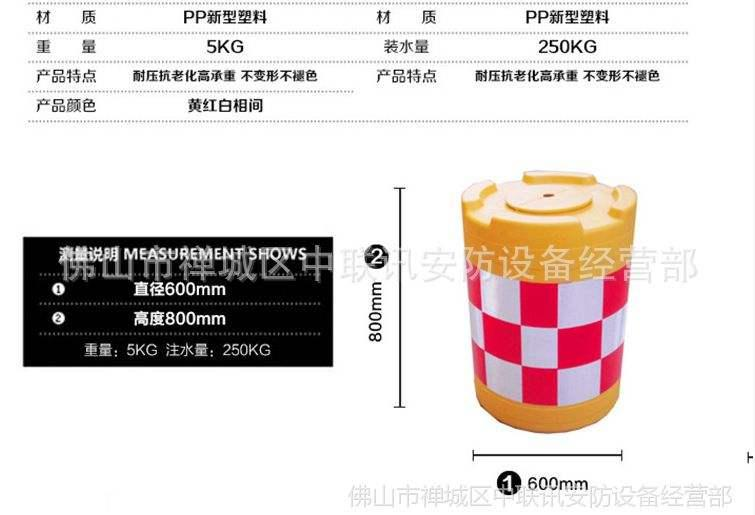sign: (449, 153, 633, 437)
